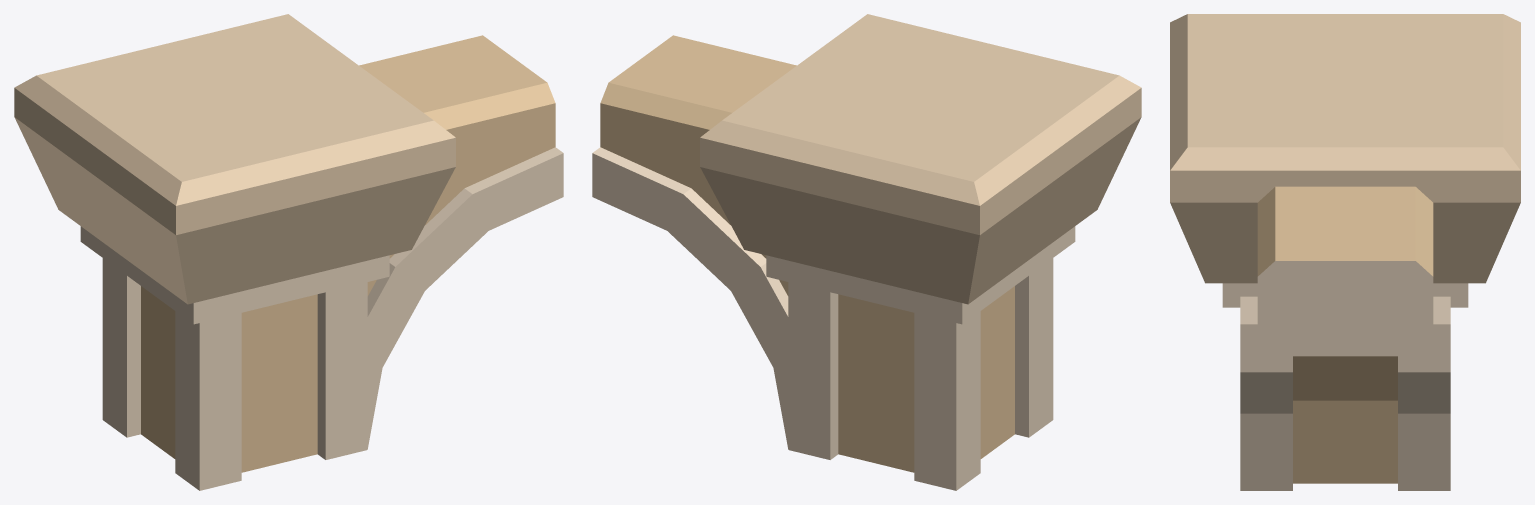
Rendered from opengameart-modular-temple-3d-models_12.glb.
The picture shows the model from 3 angles, left to right: view 1: azimuth 30°, elevation 25°; view 2: azimuth 150°, elevation 25°; view 3: azimuth 270°, elevation 25°; orthographic projection. The views are drawn at different scales.
Visible parts, largest first — view 1: object1, object2; view 2: object1, object2; view 3: object1, object2.
Part boxes in pixels (bbox=[...]): object1: bbox=[14, 14, 455, 324]; object2: bbox=[102, 35, 563, 490]; object1: bbox=[700, 14, 1141, 324]; object2: bbox=[592, 35, 1053, 490]; object1: bbox=[1170, 14, 1520, 307]; object2: bbox=[1240, 186, 1450, 490].
Bounding box in the file's own units: 1.5 × 1.15 × 1.
